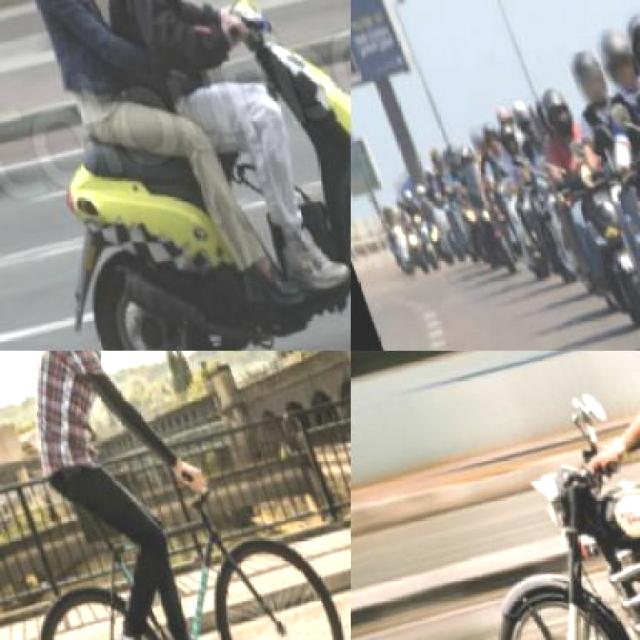With Helmet: (591, 17, 638, 92), (565, 41, 610, 102), (536, 77, 578, 134), (614, 0, 638, 83), (494, 112, 523, 154), (476, 112, 506, 152), (465, 119, 490, 155)
